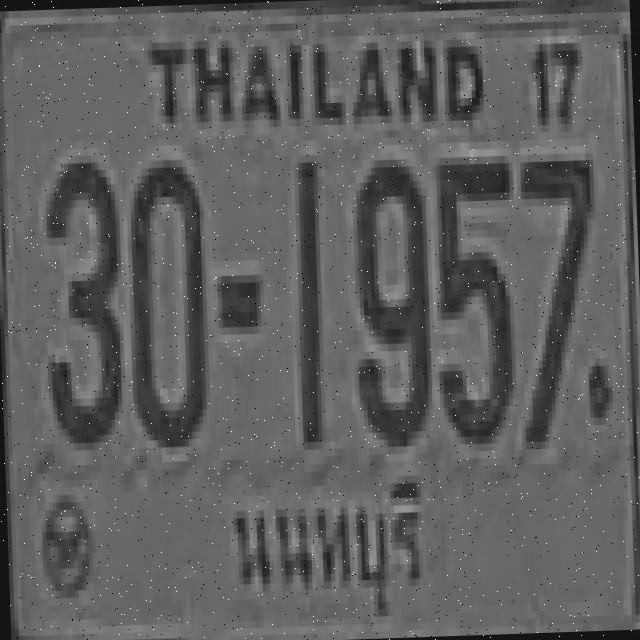0: (124, 152, 207, 440)
1: (289, 158, 322, 438)
3: (40, 154, 123, 443)
5: (431, 148, 514, 437)
7: (516, 152, 598, 442)
9: (346, 151, 429, 440)
Nonthaburi: (224, 466, 438, 632)
